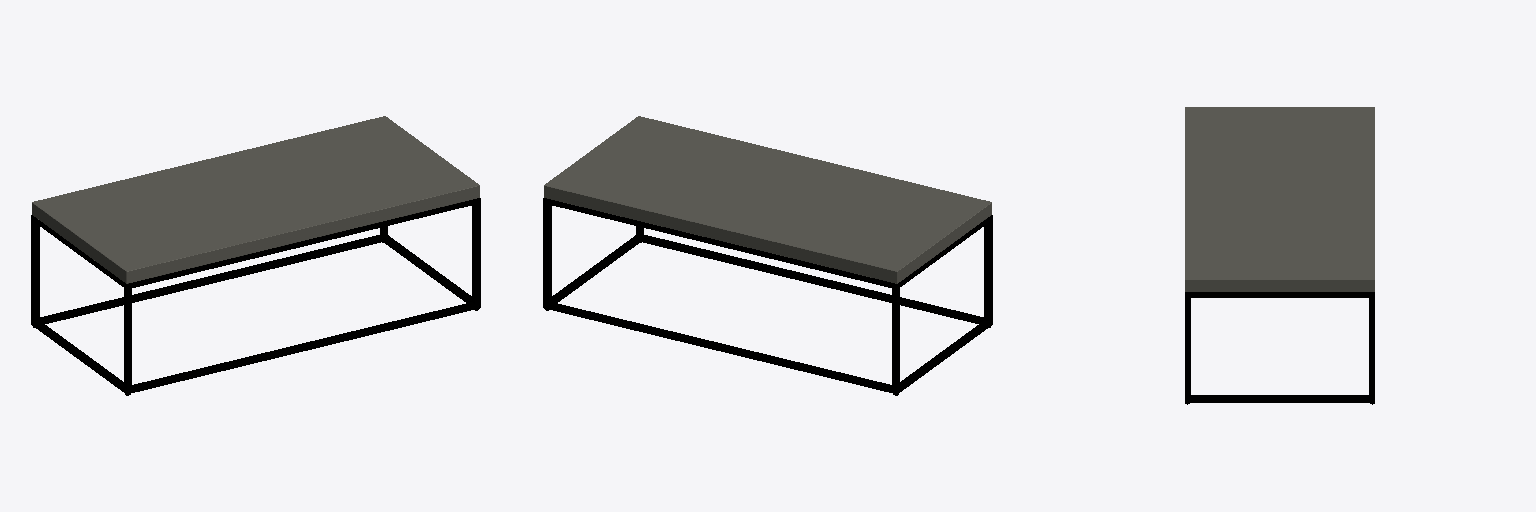
The model's file is Banca1.obj.
3 views of the same model, side by side, from view 1: azimuth 30°, elevation 25°; view 2: azimuth 150°, elevation 25°; view 3: azimuth 270°, elevation 25° (orthographic).
Parts seen in each view (by area): view 1: Censi_ConcreteCoffeeTable_free_obj; view 2: Censi_ConcreteCoffeeTable_free_obj; view 3: Censi_ConcreteCoffeeTable_free_obj.
Part boxes in pixels (bbox=[...]): Censi_ConcreteCoffeeTable_free_obj: bbox=[31, 116, 480, 395]; Censi_ConcreteCoffeeTable_free_obj: bbox=[543, 116, 992, 395]; Censi_ConcreteCoffeeTable_free_obj: bbox=[1185, 107, 1374, 404].
Size of the model in its own units: 11.88 by 3.99 by 5.53.